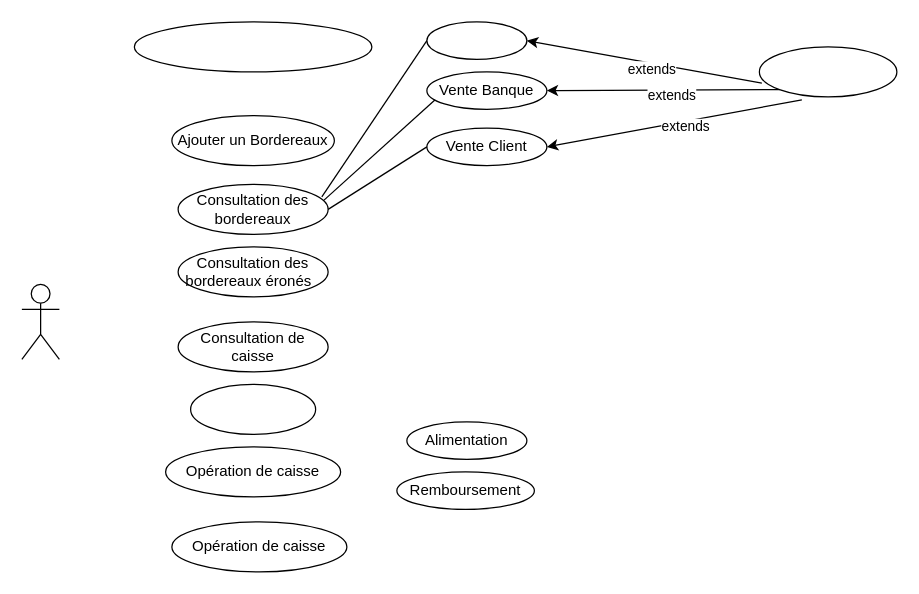
Image size: 919x594. Some labels were removed from this diagram. The shapes that lost their labels are listed below. From the top down, each one's centre as x and y in pixels, then its label:
At point 252,46: "Importer le cours de devise".
At point 476,40: "Achat".
At point 827,71: "Gestion d'erreur".
At point 40,321: "Actor".
At point 252,408: "Achat de Dirham".
